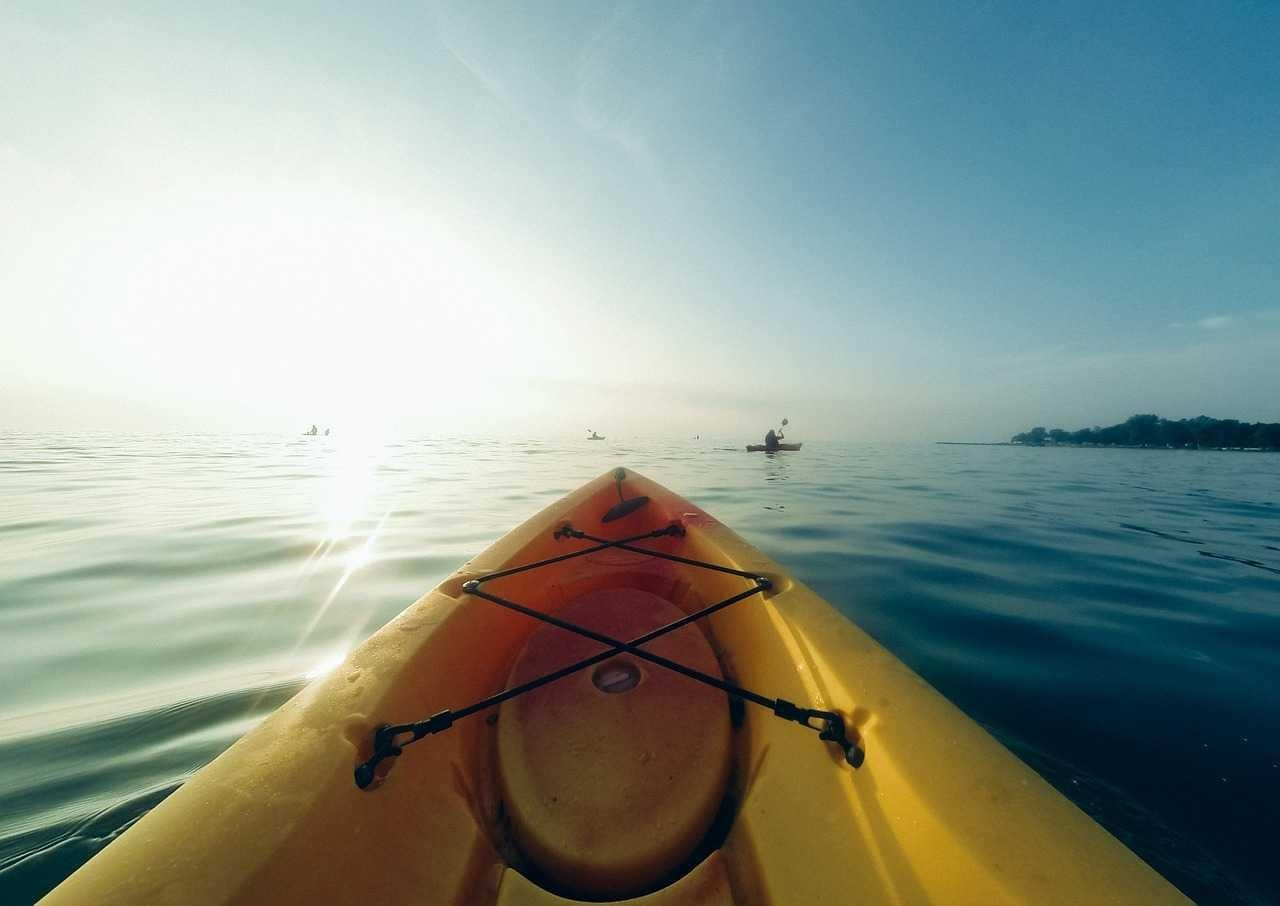kayak: (26, 464, 1230, 899), (747, 426, 803, 452), (586, 429, 605, 438)
